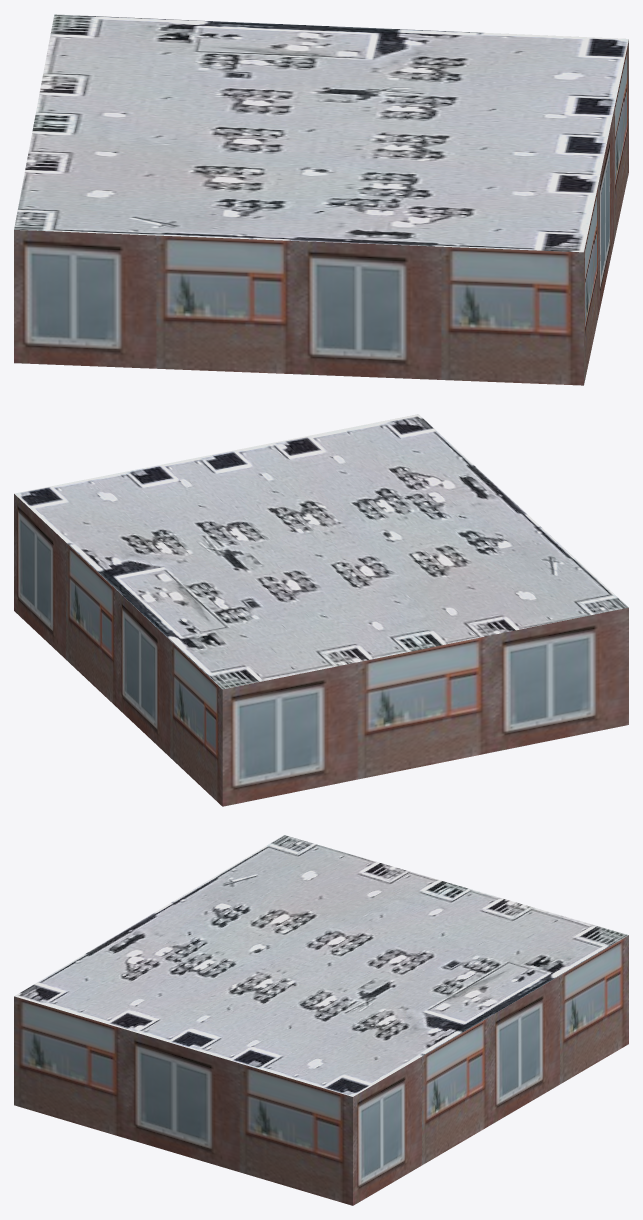
Rendered from ResTex__3216.fbx.
3 views of the same model, one above another, from view 1: azimuth 30°, elevation 25°; view 2: azimuth 150°, elevation 25°; view 3: azimuth 270°, elevation 25° (orthographic). The views are drawn at different scales.
Parts seen in each view (by area): view 1: CityEngineMaterial_15_m, CityEngineMaterial_19_m; view 2: CityEngineMaterial_15_m, CityEngineMaterial_19_m; view 3: CityEngineMaterial_15_m, CityEngineMaterial_19_m.
Part boxes in pixels (x1,y1,x2,y2): CityEngineMaterial_15_m: (14,14,628,252); CityEngineMaterial_19_m: (14,40,628,385); CityEngineMaterial_15_m: (14,414,628,689); CityEngineMaterial_19_m: (14,494,628,806); CityEngineMaterial_15_m: (14,835,628,1096); CityEngineMaterial_19_m: (14,935,628,1205).
Bounding box in the file's own units: 15.48 × 3 × 15.35.
Materials: 2 (2 with a texture image).
